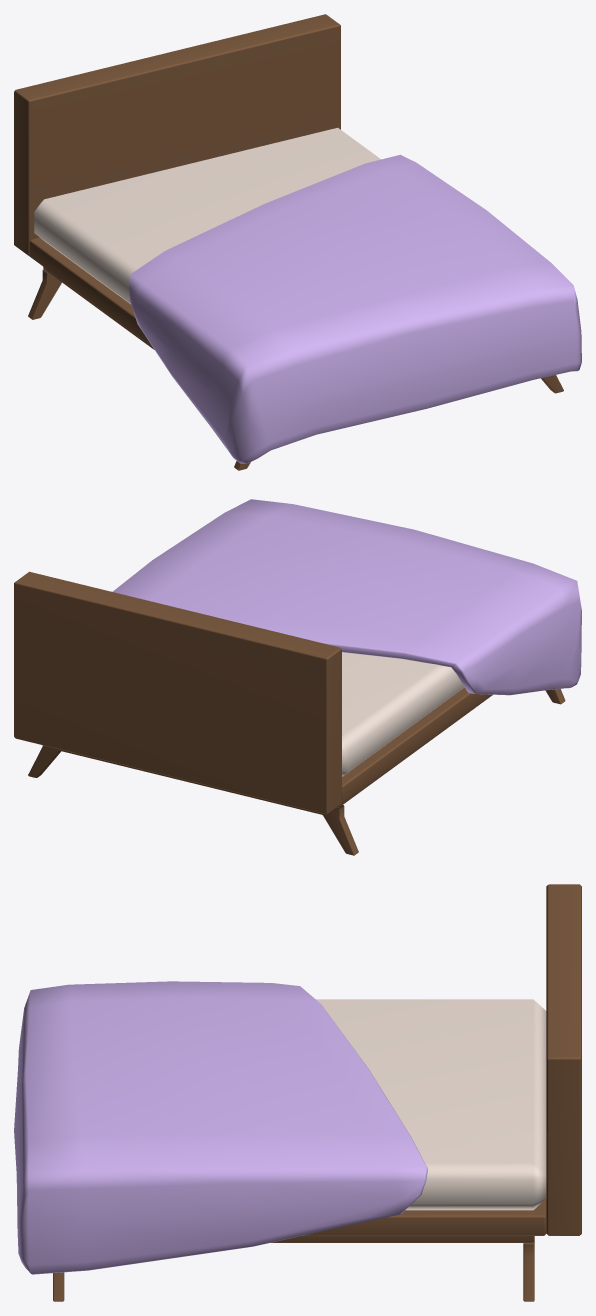
The model's file is Bed_3.glb.
3 views of the same model, one above another, from view 1: azimuth 30°, elevation 25°; view 2: azimuth 150°, elevation 25°; view 3: azimuth 270°, elevation 25° (orthographic). The views are drawn at different scales.
Parts seen in each view (by area): view 1: Bed_3; view 2: Bed_3; view 3: Bed_3.
Boxes of the visible parts, x1,y1,x2,y2 form: Bed_3: [14, 14, 581, 470]; Bed_3: [14, 499, 581, 855]; Bed_3: [14, 884, 581, 1301].
Bounding box in the file's own units: 2 × 1.16 × 2.47.
1 material, 1 textured.
